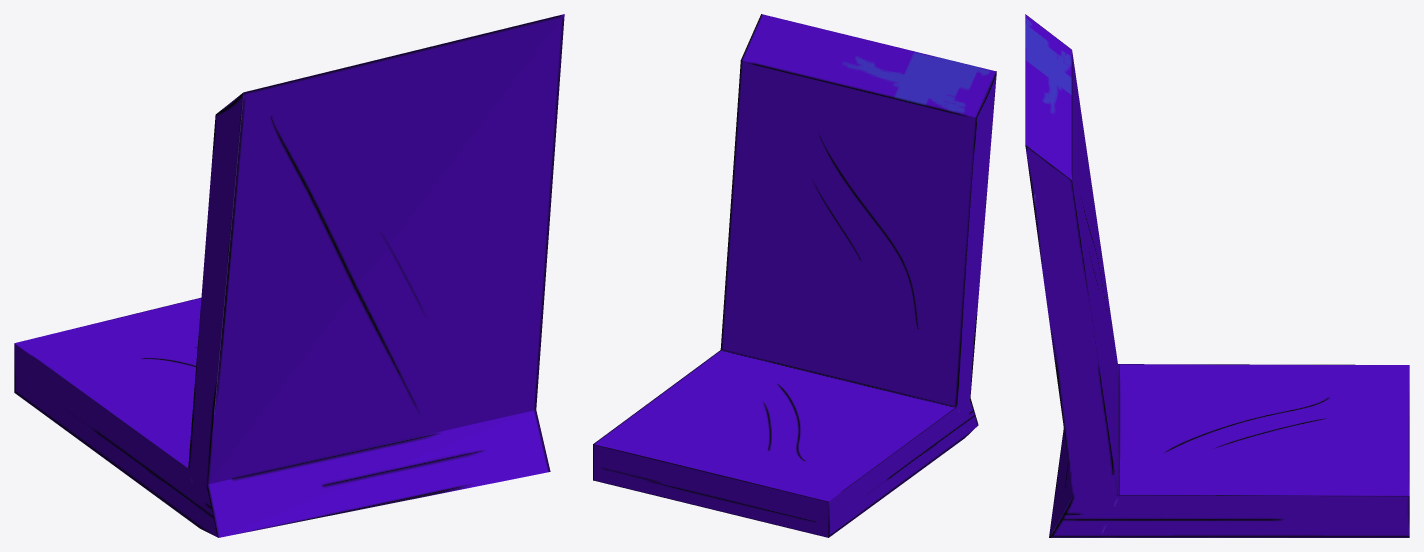
Rendered from stoelblauw.fbx.
3 renders of one model, left to right at view 1: azimuth 30°, elevation 25°; view 2: azimuth 150°, elevation 25°; view 3: azimuth 270°, elevation 25°, orthographic. The views are drawn at different scales.
Parts seen in each view (by area): view 1: stoelblauw1; view 2: stoelblauw1; view 3: stoelblauw1.
Boxes of the visible parts, x1,y1,x2,y2 form: stoelblauw1: [14, 14, 564, 537]; stoelblauw1: [593, 14, 996, 537]; stoelblauw1: [1025, 14, 1409, 537].
Size of the model in its own units: 0.582 by 0.8105 by 0.7192.
